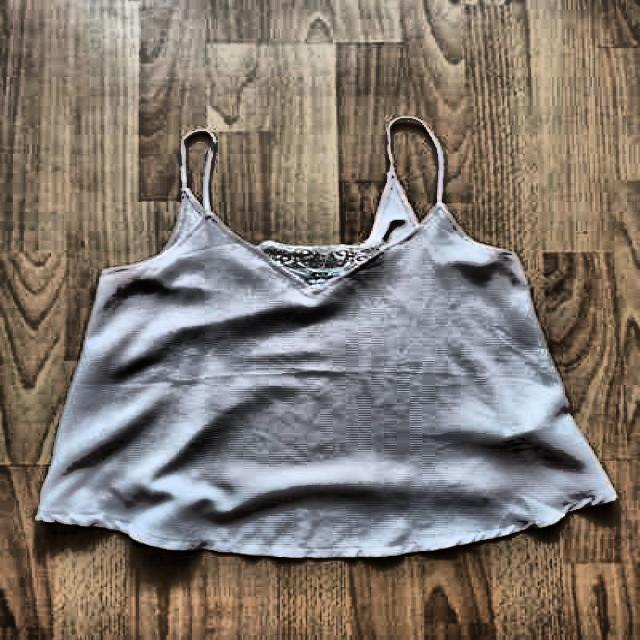clothes: (35, 119, 621, 562)
